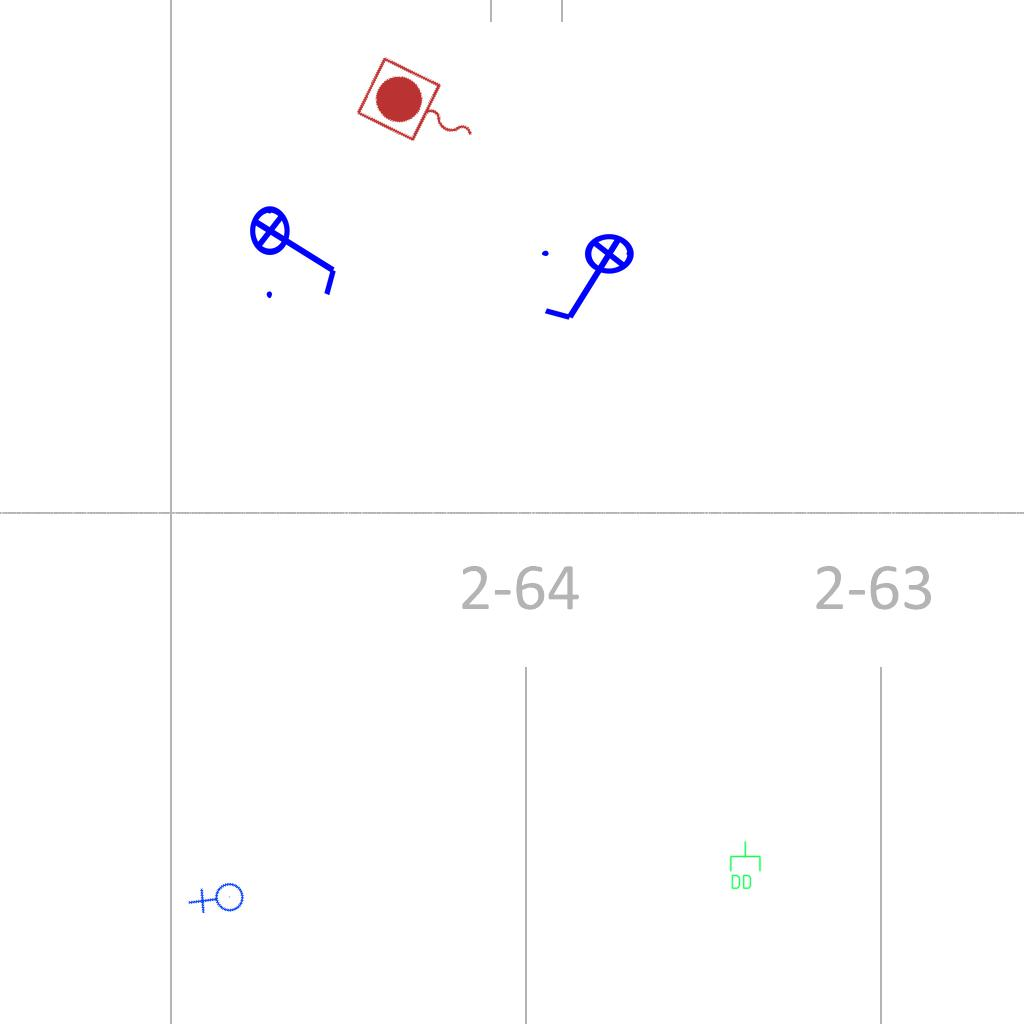Ausschalter_beleuchtet: (536, 232, 648, 328), (248, 192, 344, 304)
Datenanschluss_zweifach: (728, 840, 762, 891)
Elektroanschluss_allgemein_230V_Geraeteanschlussdose_230V: (185, 866, 254, 935)
Zugtaster: (350, 51, 492, 171)
